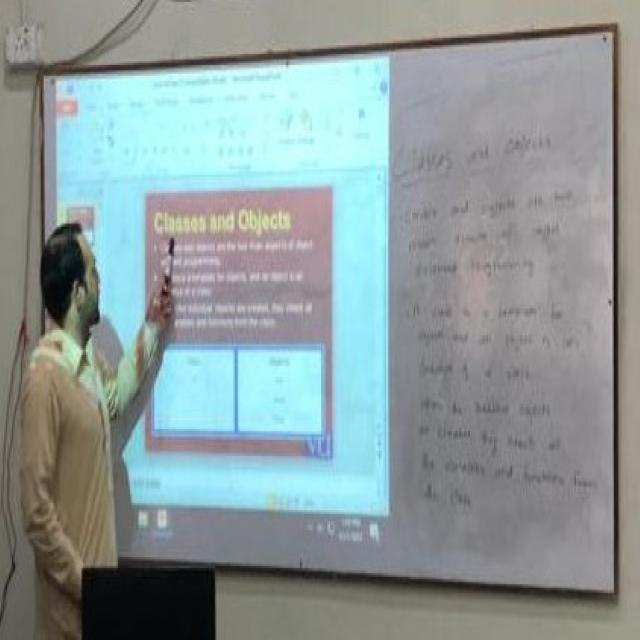Instructor: (16, 205, 117, 602)
Slide: (54, 48, 390, 556)
White-board: (41, 29, 617, 595)
